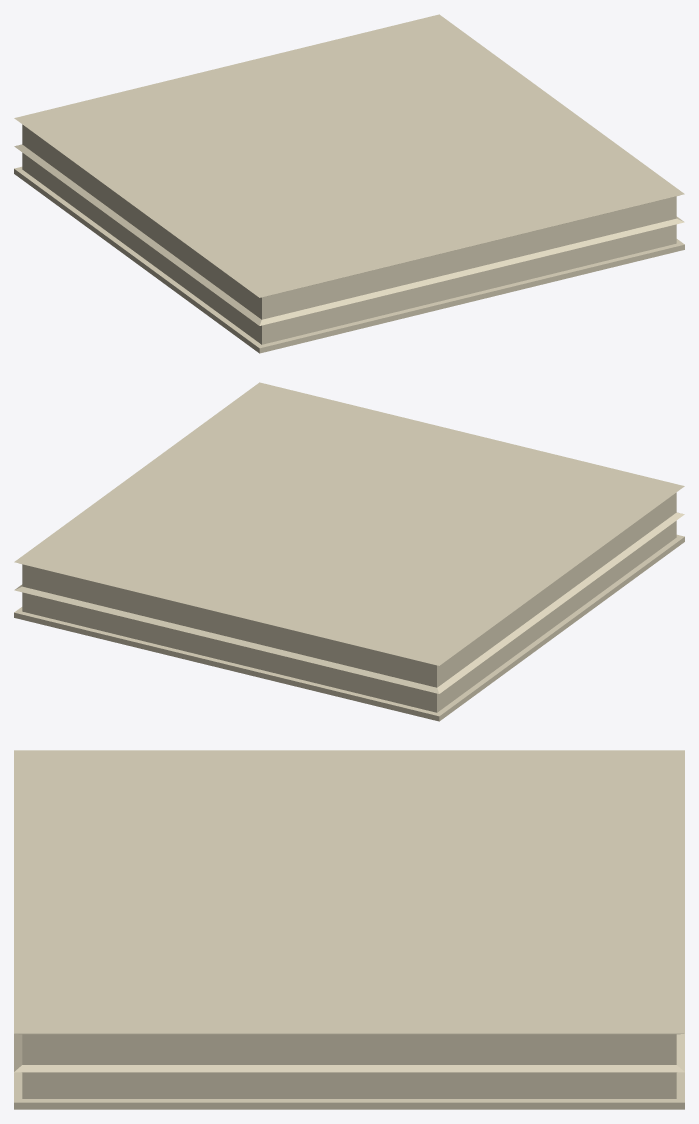
Rendered from roman_roof_support_1_square.fbx.
3 renders of one model, top to bottom at view 1: azimuth 30°, elevation 25°; view 2: azimuth 150°, elevation 25°; view 3: azimuth 270°, elevation 25°, orthographic. The views are drawn at different scales.
Visible parts, largest first — view 1: Cube.018; view 2: Cube.018; view 3: Cube.018.
Part boxes in pixels (<box>): Cube.018: <box>14,14,684,353</box>; Cube.018: <box>14,382,684,721</box>; Cube.018: <box>14,750,684,1109</box>.
Size of the model in its own units: 8 by 1 by 8.
